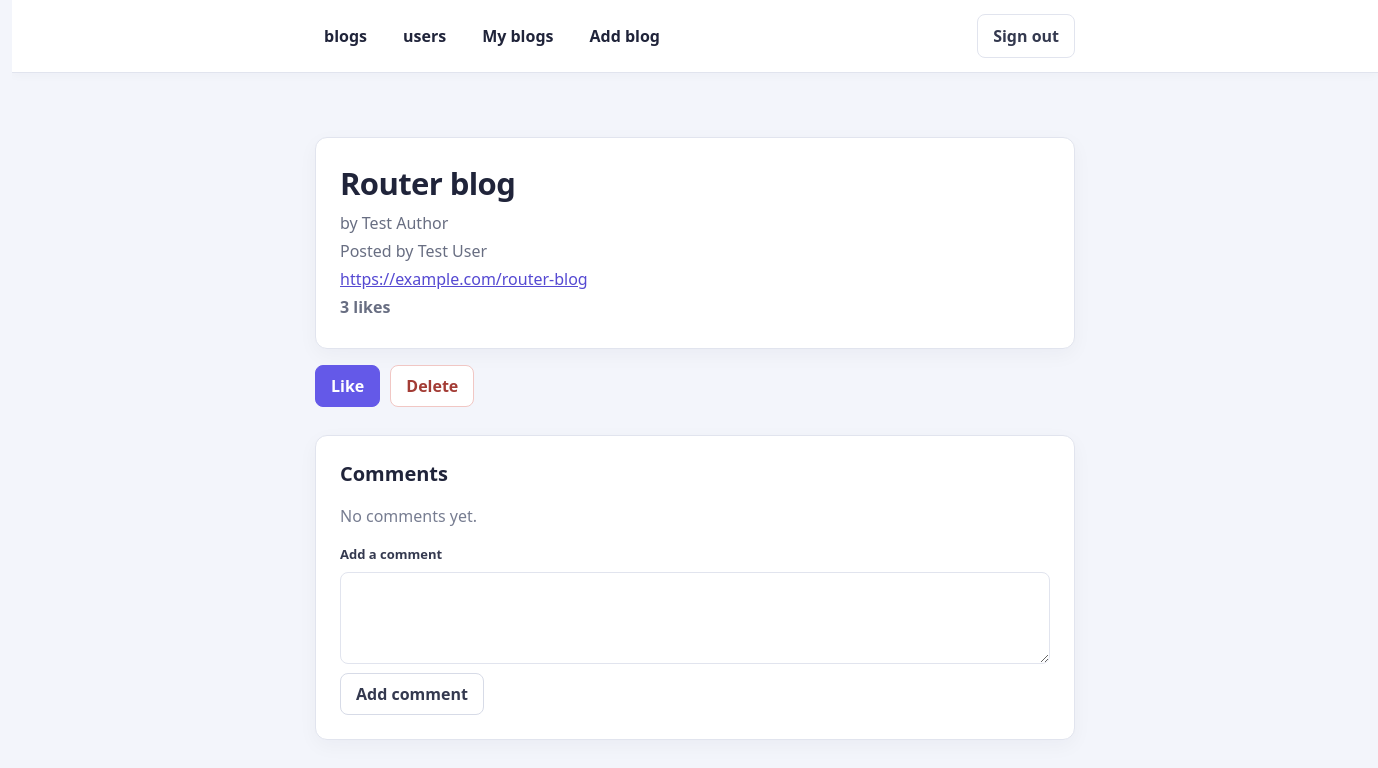
it: App routes and navigation › deletes a blog and redirects to all blogs
The width and height of the screenshot is (1378, 768).
Click the button "Delete" at (432, 386), box [390, 365, 474, 407]
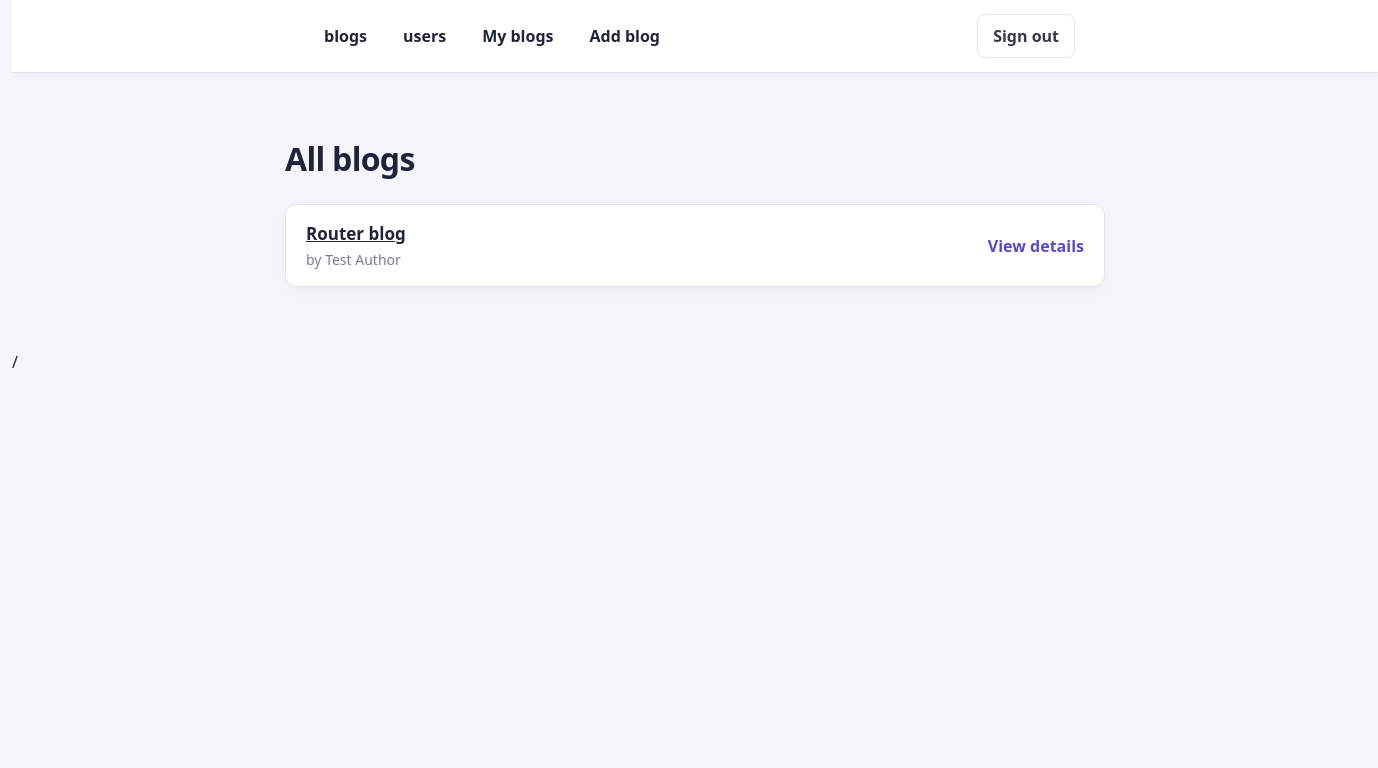
Expected: the heading "All blogs" is shown, [285, 137, 415, 180]
Expected: the text named "Current path" reads "/", [12, 351, 18, 373]
